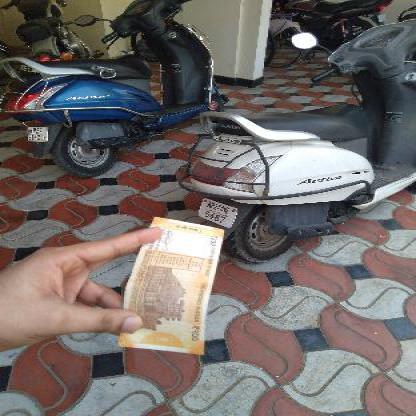New200Back: (120, 224, 220, 356)
